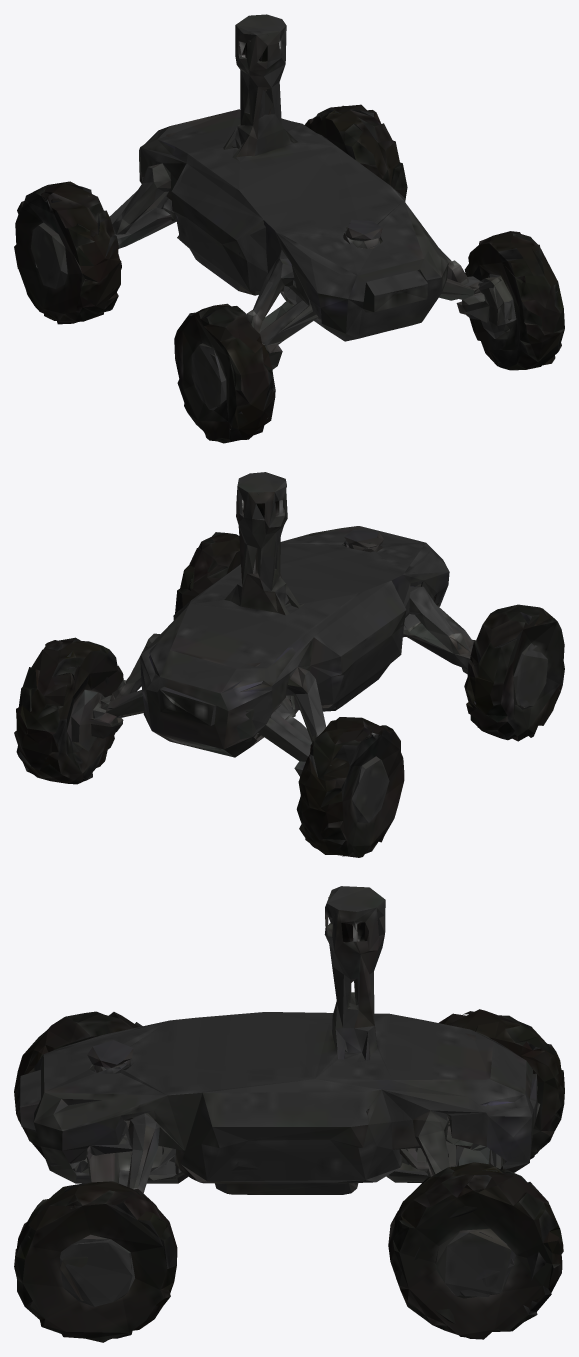
Rendered from rover.glb.
3 renders of one model, top to bottom at view 1: azimuth 30°, elevation 25°; view 2: azimuth 150°, elevation 25°; view 3: azimuth 270°, elevation 25°, orthographic. The views are drawn at different scales.
Bounding box in the file's own units: 0.8289 × 0.7103 × 0.9978.
1 material, 1 textured.
